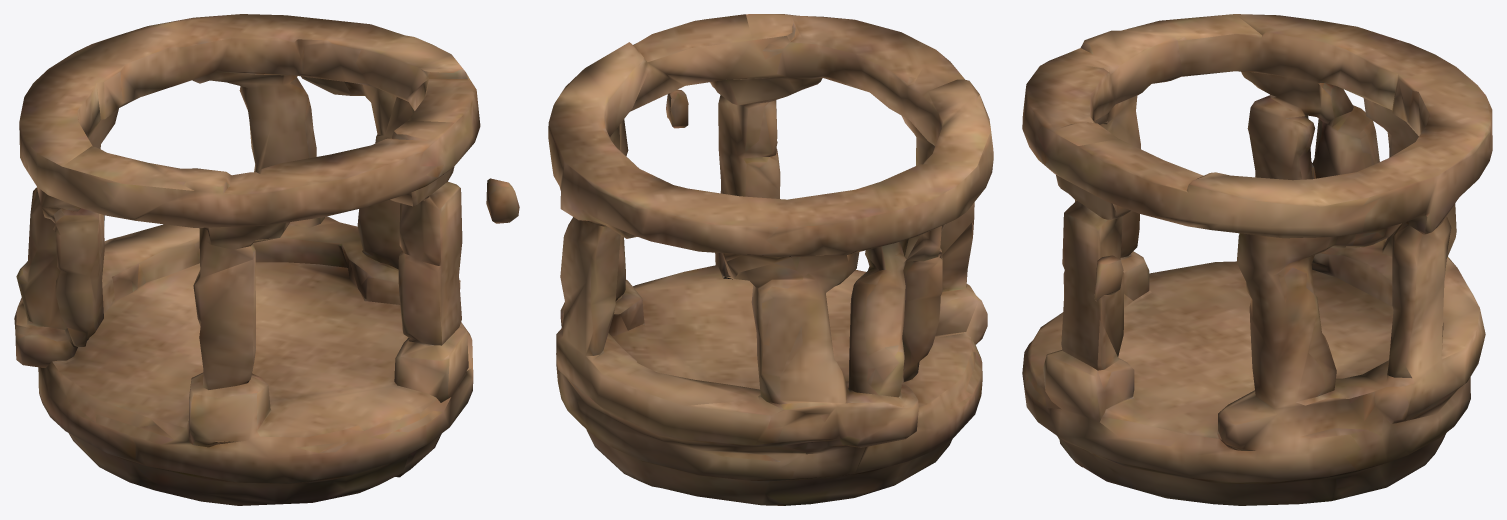
Rendered from stone-well-v001.glb.
The picture shows the model from 3 angles, left to right: view 1: azimuth 30°, elevation 25°; view 2: azimuth 150°, elevation 25°; view 3: azimuth 270°, elevation 25°; orthographic projection. The views are drawn at different scales.
Visible parts, largest first — view 1: stone-well; view 2: stone-well; view 3: stone-well.
Boxes of the visible parts, box(x1,y1,x2,y2) form: stone-well: box(14, 14, 519, 505); stone-well: box(548, 14, 993, 505); stone-well: box(1022, 14, 1492, 505).
Bounding box in the file's own units: 1.35 × 1.1 × 1.35.
Materials: 1 (1 with a texture image).
